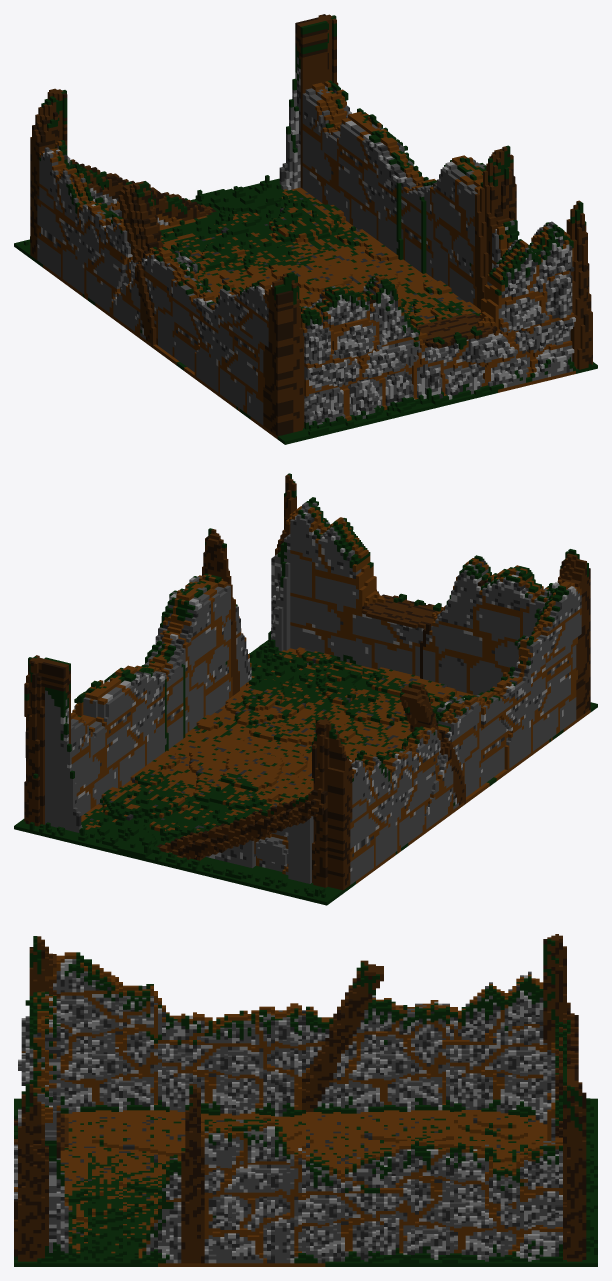
File: House.obj
3 views of the same model, one above another, from view 1: azimuth 30°, elevation 25°; view 2: azimuth 150°, elevation 25°; view 3: azimuth 270°, elevation 25° (orthographic). The views are drawn at different scales.
Bounding box in the file's own units: 10 × 5 × 15.
1 material, 1 textured.
